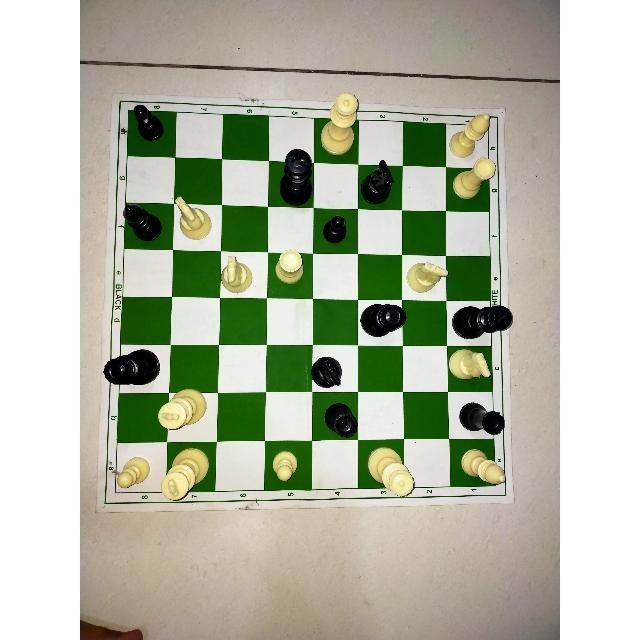black-bishop: (120, 200, 166, 243)
black-king: (277, 145, 317, 210), (449, 301, 512, 341)
black-knight: (355, 157, 397, 205), (307, 355, 345, 389)
black-pawn: (128, 97, 167, 142), (320, 213, 350, 243)
black-queen: (103, 346, 165, 389), (358, 301, 412, 336)
black-rook: (456, 397, 508, 438), (320, 403, 360, 443)
white-bishop: (444, 111, 497, 161), (460, 446, 508, 493)
white-king: (159, 440, 217, 503), (155, 385, 213, 436)
white-knight: (170, 191, 215, 245), (401, 254, 450, 293), (448, 345, 494, 385), (217, 253, 256, 295)
white-pawn: (112, 453, 154, 495), (268, 448, 299, 484)
white-queen: (318, 88, 358, 159), (371, 446, 415, 501)
white-rook: (447, 158, 500, 203), (269, 251, 311, 287)
